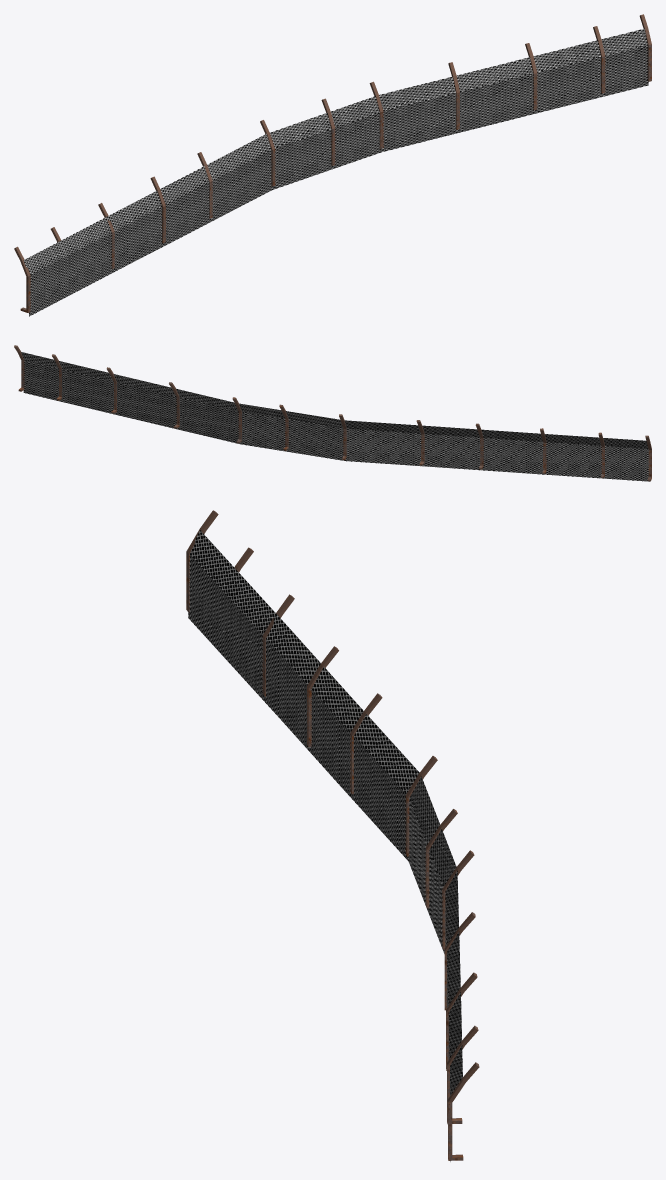
Rendered from SM_Scene_A_Fence01.fbx.
The picture shows the model from 3 angles, top to bottom: view 1: azimuth 30°, elevation 25°; view 2: azimuth 150°, elevation 25°; view 3: azimuth 270°, elevation 25°; orthographic projection. The views are drawn at different scales.
Parts seen in each view (by area): view 1: SM_Scene_A_Fence01; view 2: SM_Scene_A_Fence01; view 3: SM_Scene_A_Fence01.
Boxes of the visible parts, x1,y1,x2,y2 form: SM_Scene_A_Fence01: (14, 14, 651, 316); SM_Scene_A_Fence01: (14, 345, 651, 481); SM_Scene_A_Fence01: (186, 510, 479, 1161).
Size of the model in its own units: 14224 by 1237 by 3173.
